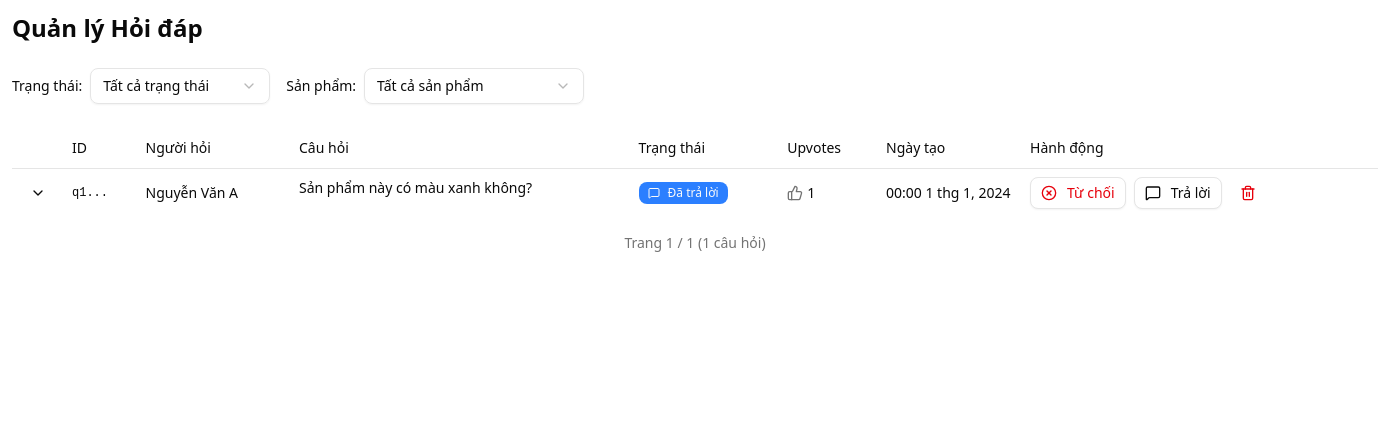
Test: Wave4B-2 G-C — M10: AdminQAPage icon-only action buttons › names the expand/collapse, delete-question and delete-answer buttons and toggles aria-expanded
expect the button named "Xóa câu hỏi của Nguyễn Văn A" is shown: met, box [1230,176,1266,208]
What coordinates should you click on to do the following:
click the button named "Câu trả lời của Nguyễn Văn A"
I would click on:
 (38, 192)
Its box is [20,176,56,208].
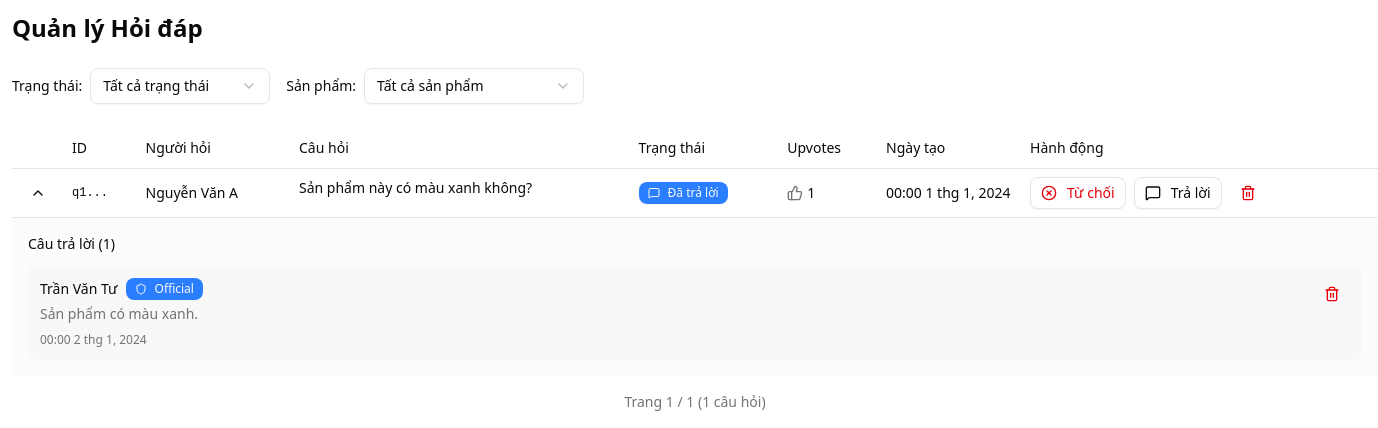
expect the button named "Câu trả lời của Nguyễn Văn A" is expanded: met, box [20,176,56,208]
expect the button named "Xóa câu trả lời của Trần Văn Tư" is shown: met, box [1314,278,1350,310]
